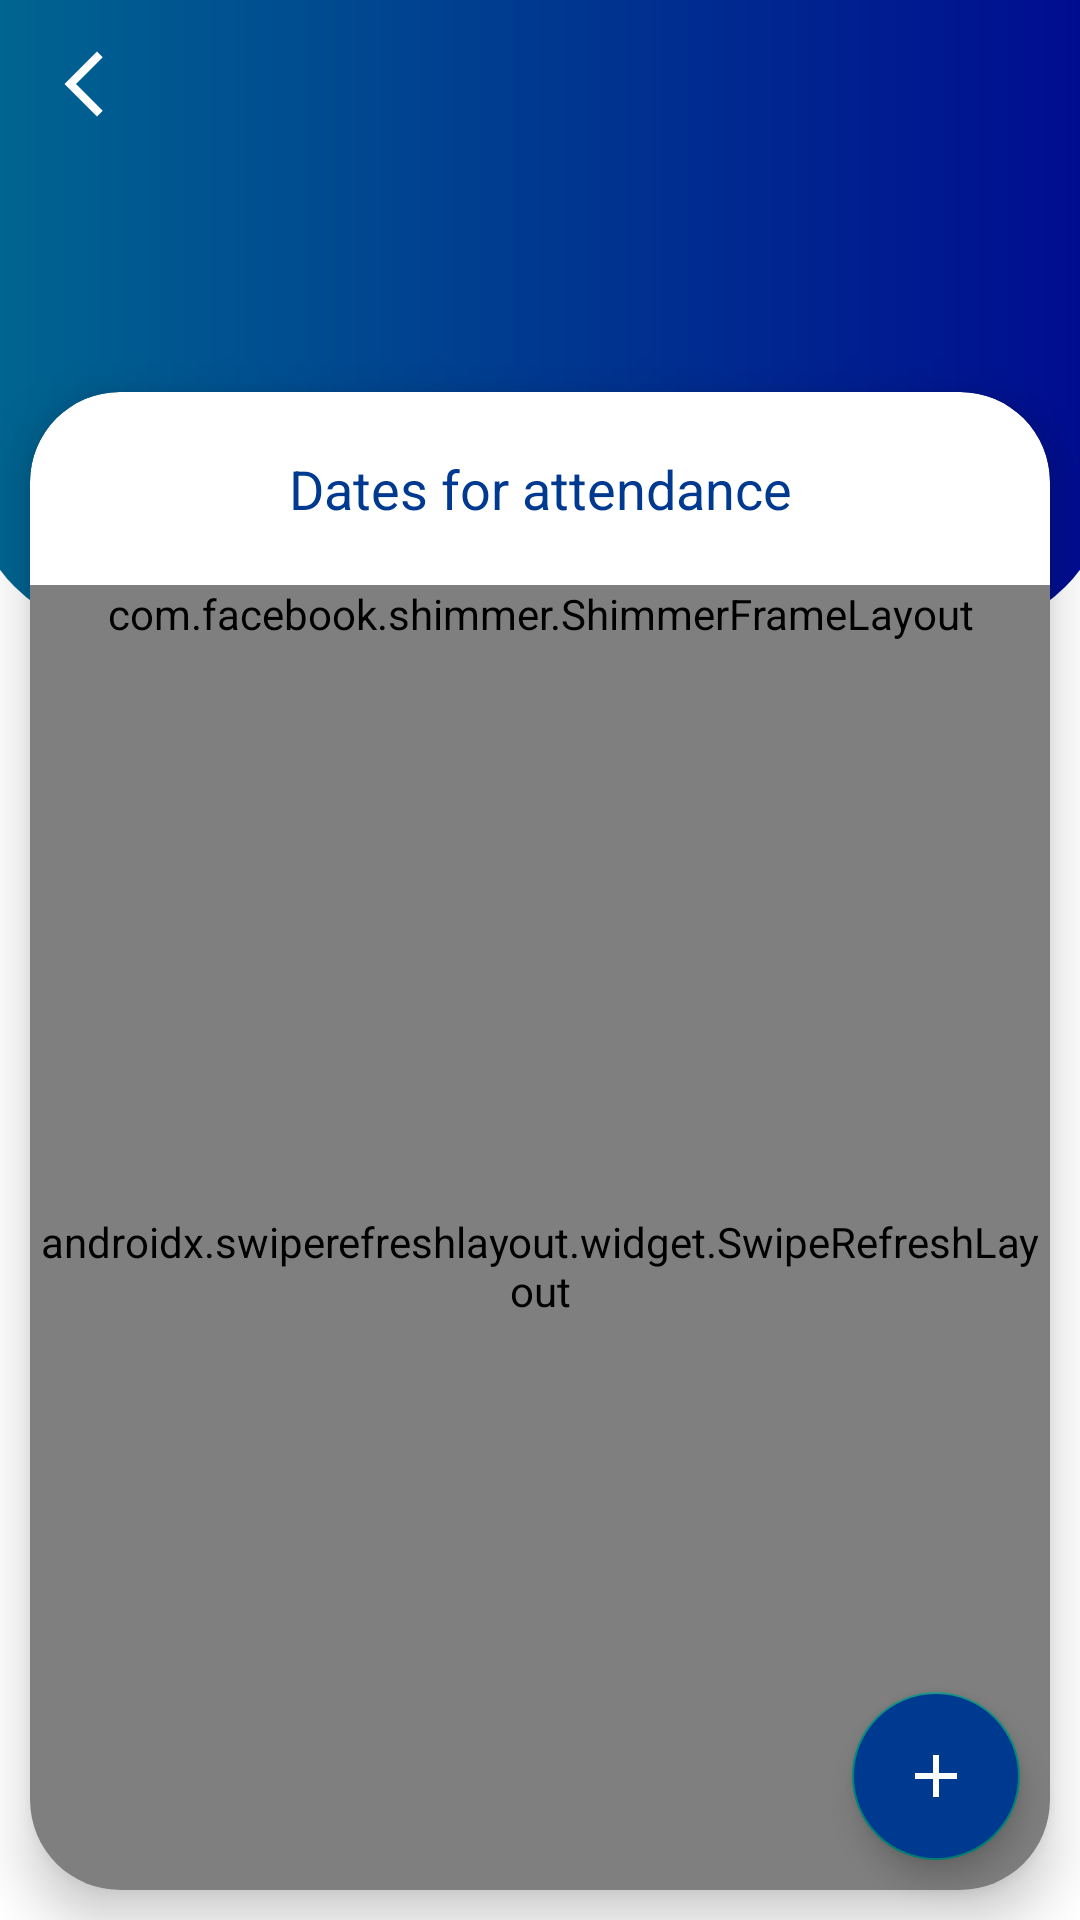

Where to tap for icons on this 1080w x 1920h app screen, as (x=x, y=y):
add: (x=936, y=1776)
arrow back: (x=83, y=84)
